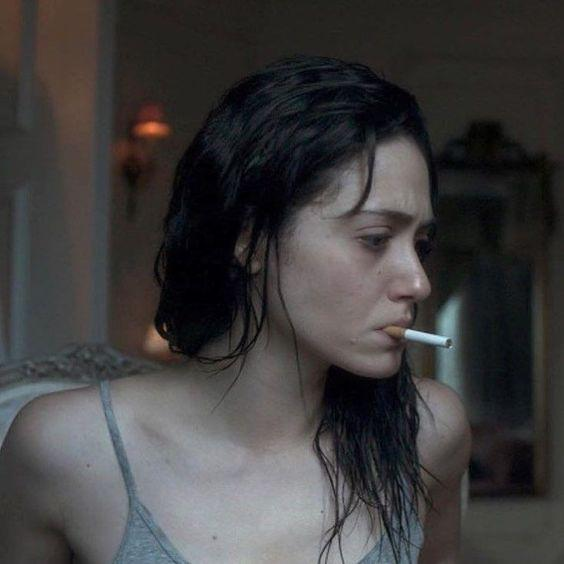cigarette: (381, 325, 453, 349)
